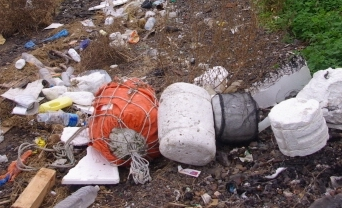buoy: (154, 79, 215, 166), (268, 97, 329, 158)
